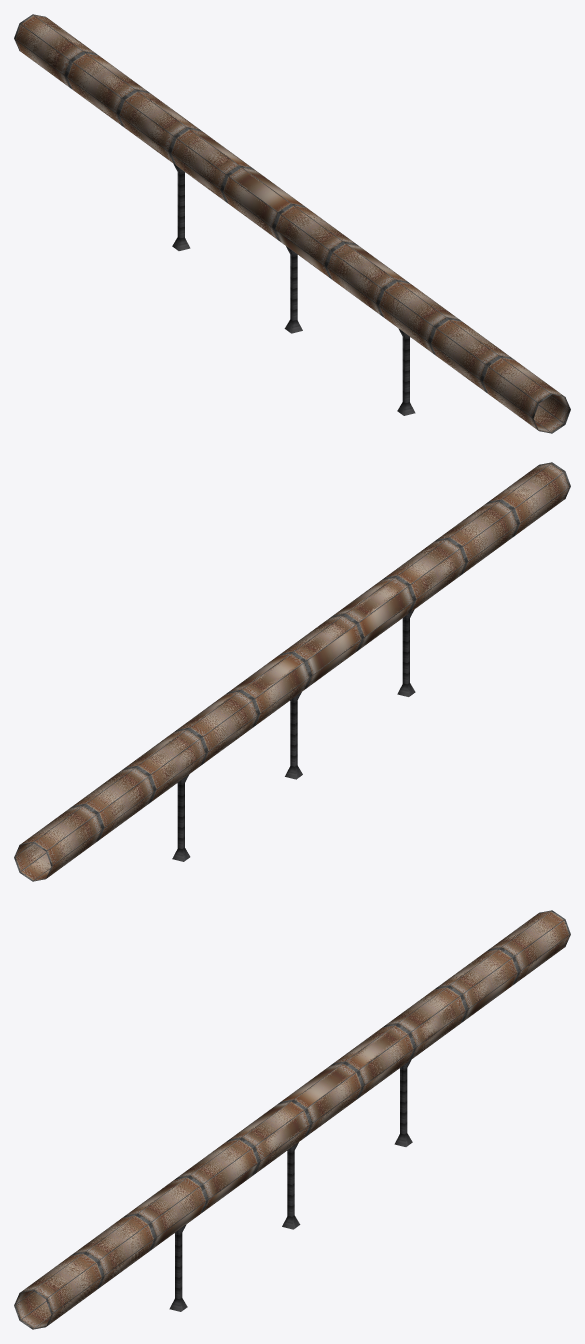
Rendered from BioTrail.fbx.
3 views of the same model, one above another, from view 1: azimuth 30°, elevation 25°; view 2: azimuth 150°, elevation 25°; view 3: azimuth 330°, elevation 25° (orthographic).
Parts seen in each view (by area): view 1: BioTrail; view 2: BioTrail; view 3: BioTrail.
Part boxes in pixels (x1=…): BioTrail: x1=14, y1=14, x2=570, y2=433; BioTrail: x1=14, y1=462, x2=570, y2=881; BioTrail: x1=14, y1=910, x2=570, y2=1329.
Bounding box in the file's own units: 32 × 102 × 769.
